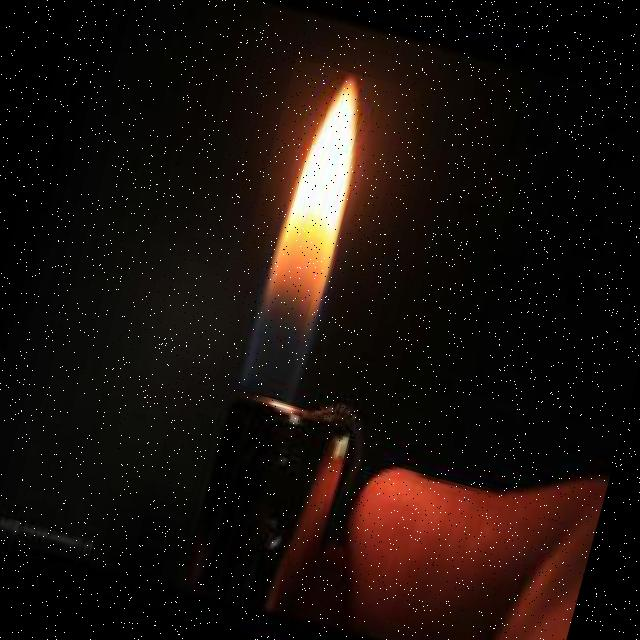fire: (210, 58, 420, 415)
